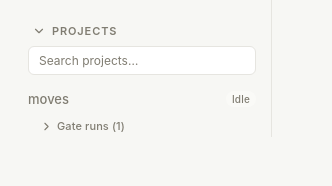
Scenario: ProjectSidebar — hiding a Parent takes its runs (Slice B) › keeps runs of a non-hidden Parent visible
Expected: the text "moves" is shown, 28,91 -> 69,107
Click the button "Gate runs (1)". click: point(91, 126)
box: 12,115 -> 272,137
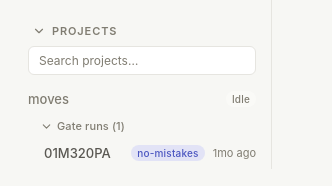
Result: the button "01M320PA no-mistakes 1mo ago" is shown at 12,137 -> 272,169
